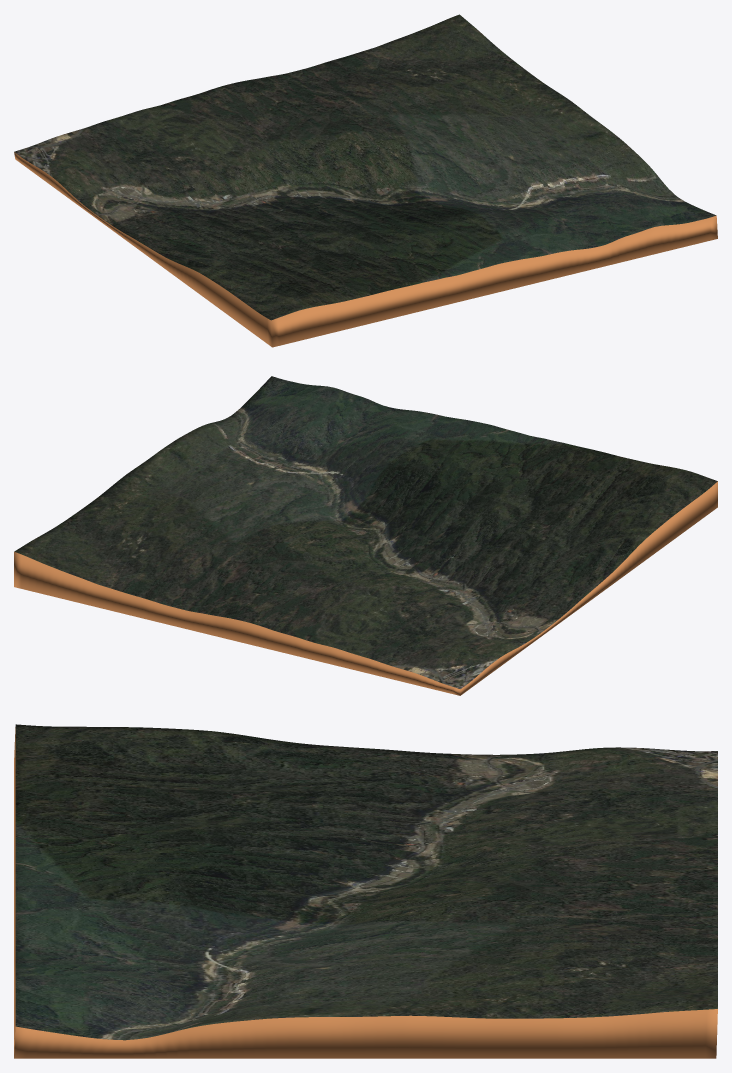
Rendered from world01.dae.
The picture shows the model from 3 angles, top to bottom: view 1: azimuth 30°, elevation 25°; view 2: azimuth 150°, elevation 25°; view 3: azimuth 270°, elevation 25°; orthographic projection. The views are drawn at different scales.
Visible parts, largest first — view 1: EXPORT_GOOGLE_SAT_WM; view 2: EXPORT_GOOGLE_SAT_WM; view 3: EXPORT_GOOGLE_SAT_WM.
Boxes of the visible parts, box(x1,y1,x2,y2) form: EXPORT_GOOGLE_SAT_WM: box(14, 14, 717, 347); EXPORT_GOOGLE_SAT_WM: box(14, 376, 717, 695); EXPORT_GOOGLE_SAT_WM: box(14, 724, 717, 1058).
Bounding box in the file's own units: 100 × 100 × 7.7.
Materials: 2 (1 with a texture image).
